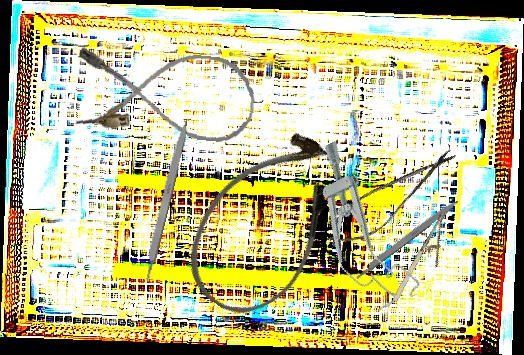Cannula: (165, 112, 369, 335), (71, 42, 260, 146)
Micro Scissor: (318, 136, 464, 259)
Needle Holder: (390, 209, 464, 310)
Scalpel Handle: (353, 196, 460, 281), (139, 118, 191, 285)
Speculum: (290, 134, 424, 320)
